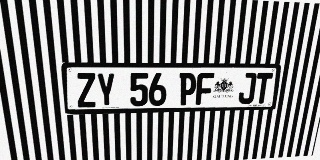5: (130, 73, 148, 106)
6: (149, 73, 167, 106)
F: (195, 73, 214, 105)
J: (238, 73, 257, 104)
P: (178, 73, 197, 105)
T: (254, 73, 273, 104)
Y: (96, 73, 116, 107)
Z: (75, 73, 97, 108)
